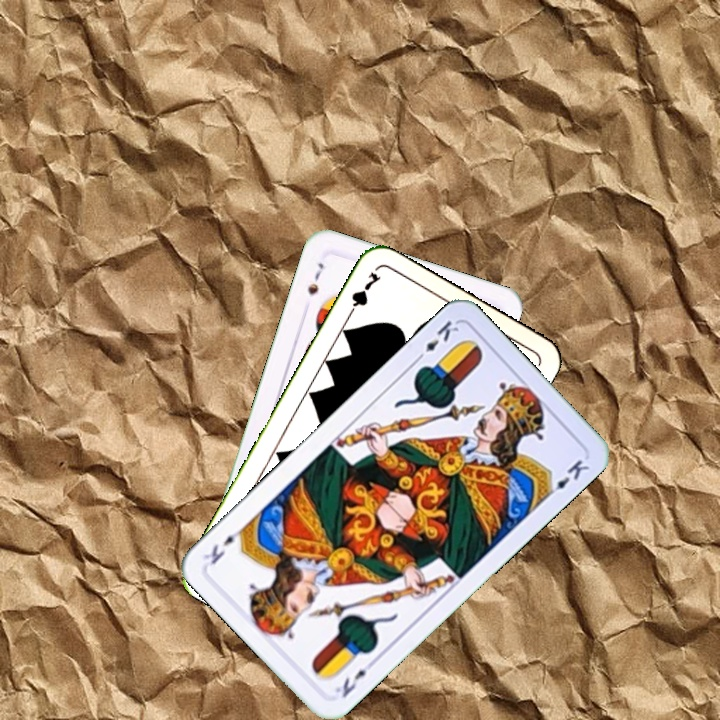EK: (411, 316, 462, 365), (331, 654, 379, 701)
G7: (343, 267, 384, 321)
S7: (303, 258, 327, 298)
